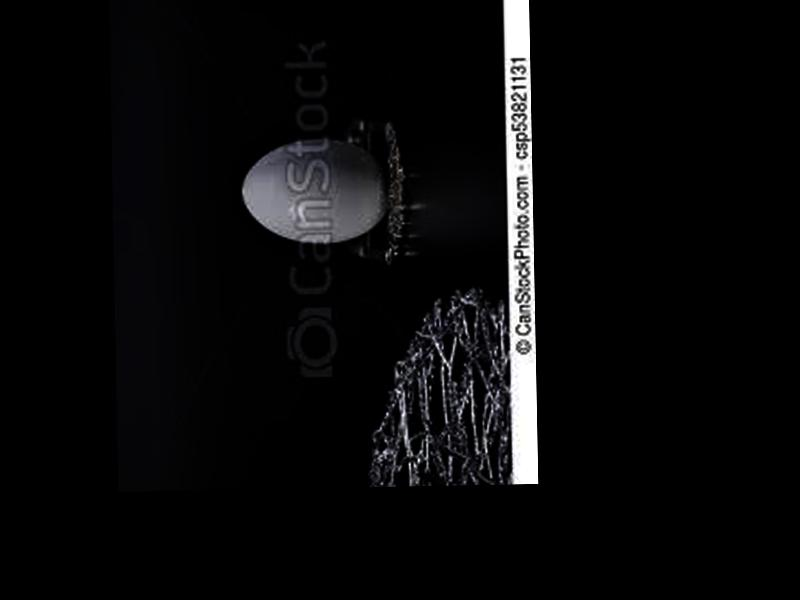Eggs: (241, 137, 389, 246)
